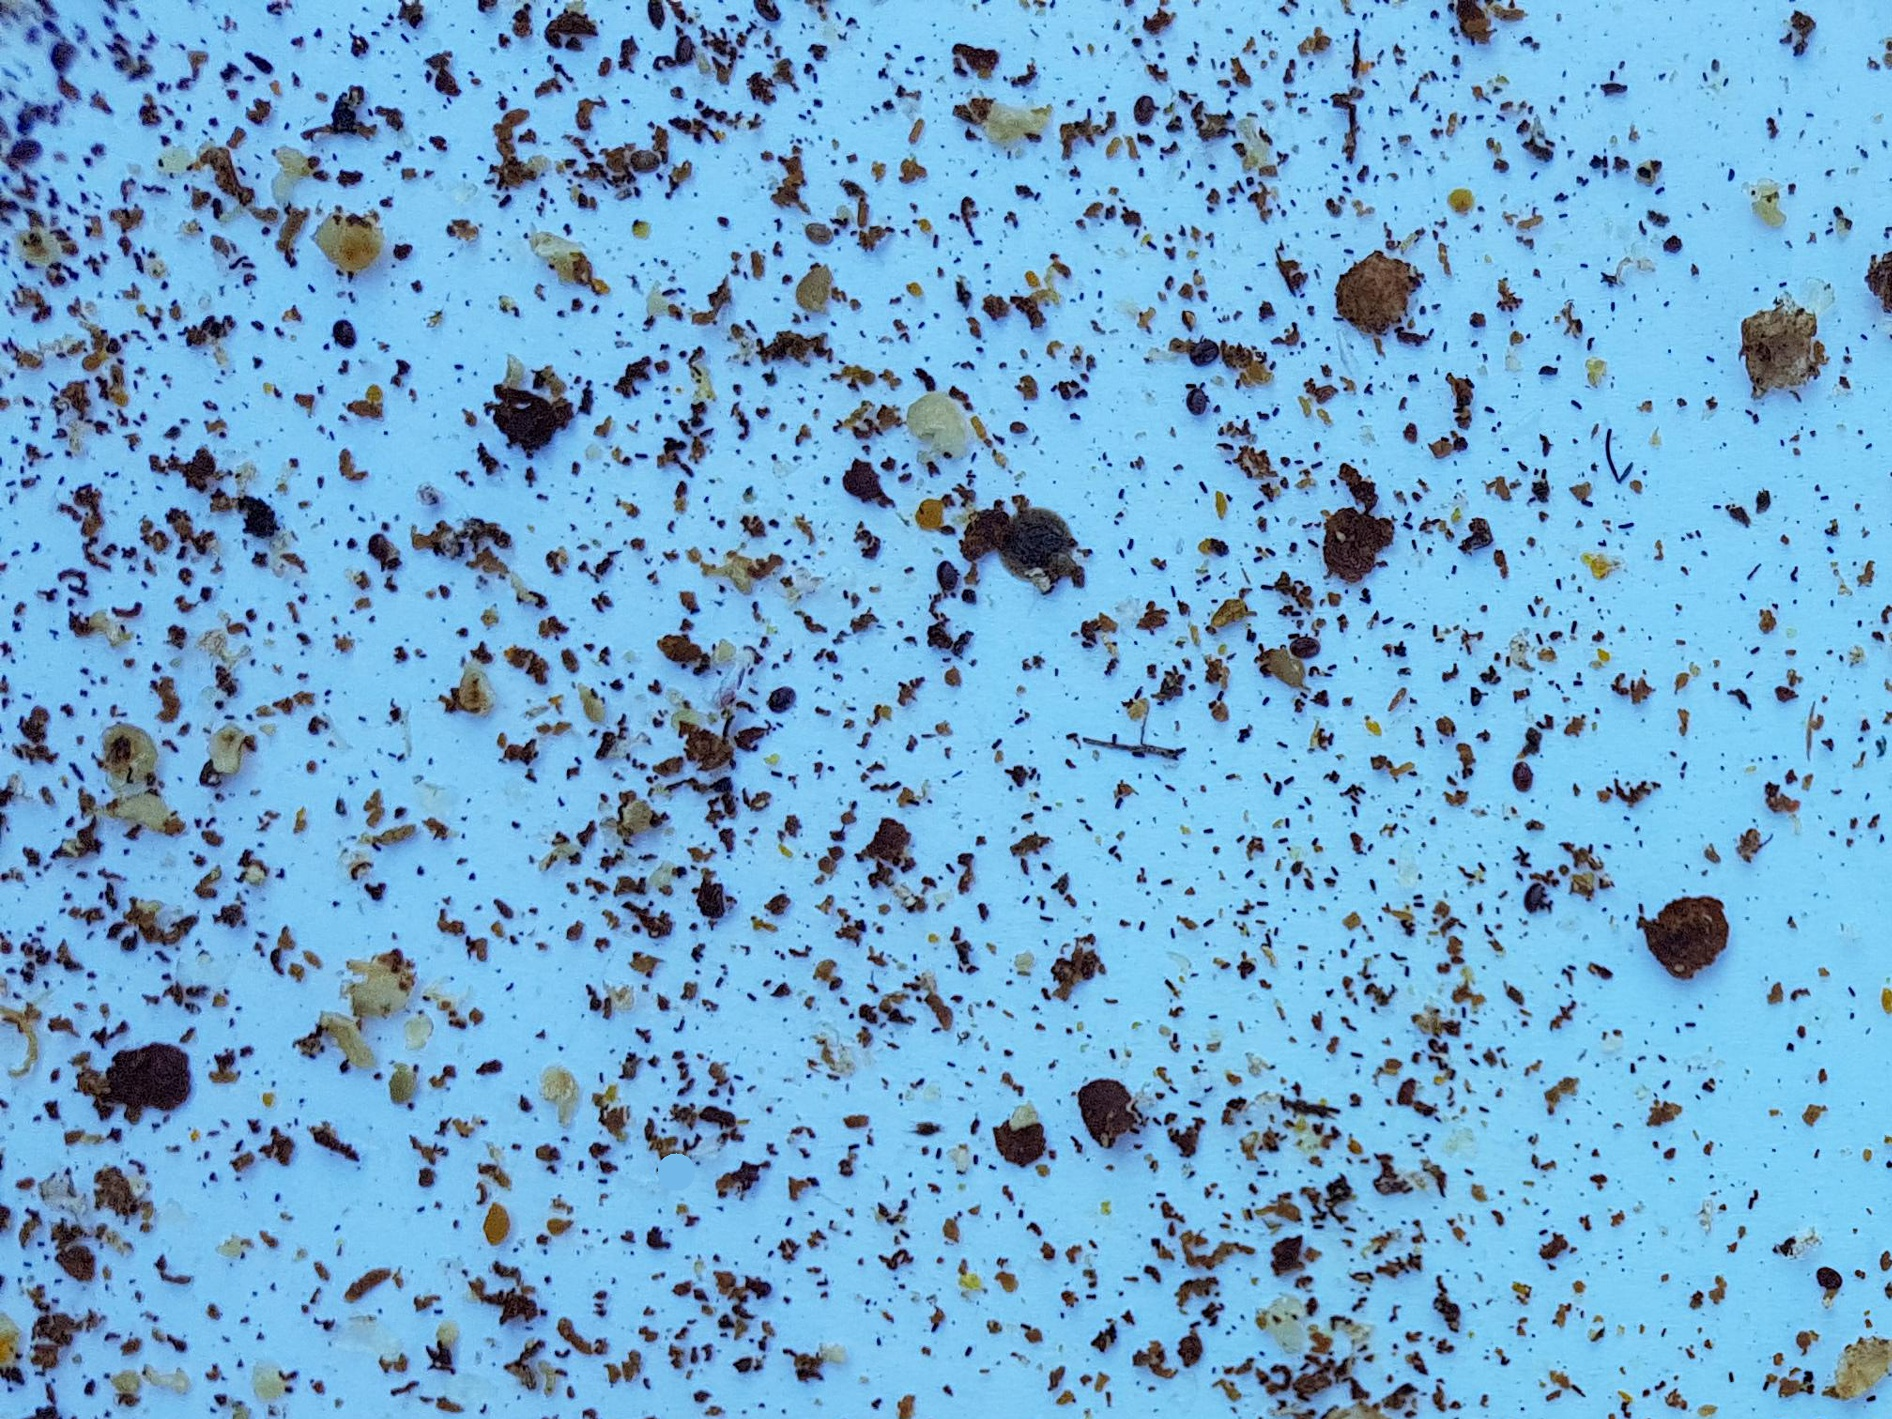Varroa: (362, 537, 396, 569), (1502, 763, 1536, 794), (1189, 337, 1219, 370), (1520, 876, 1549, 908), (329, 319, 358, 350), (1816, 1267, 1846, 1295), (632, 146, 660, 176), (669, 37, 697, 67), (806, 215, 834, 243), (937, 563, 964, 592), (1129, 92, 1156, 121), (1289, 628, 1315, 654), (769, 683, 794, 709), (1190, 395, 1216, 420)
